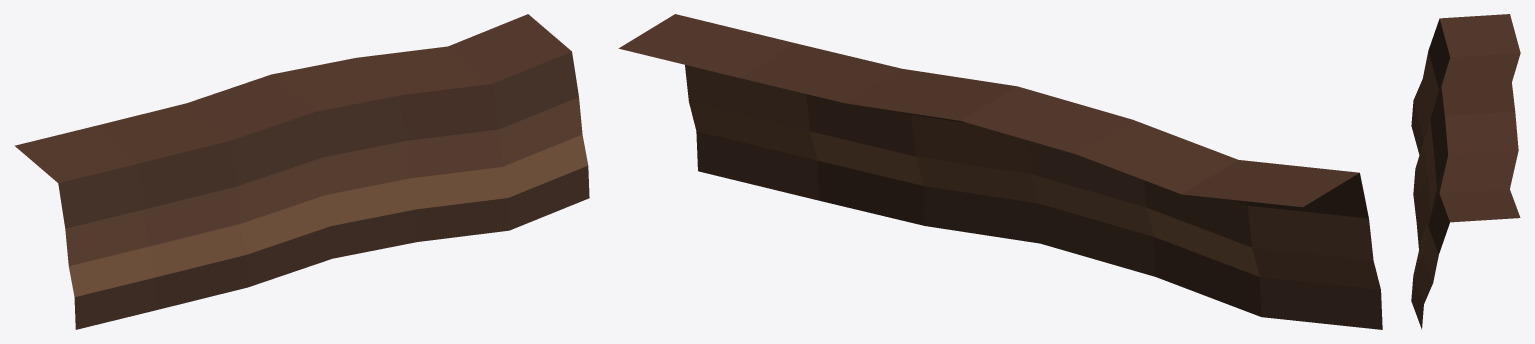
Rendered from earthen-bank.glb.
3 views of the same model, side by side, from view 1: azimuth 30°, elevation 25°; view 2: azimuth 150°, elevation 25°; view 3: azimuth 270°, elevation 25° (orthographic). The views are drawn at different scales.
Visible parts, largest first — view 1: Layered cut bank; view 2: Layered cut bank; view 3: Layered cut bank.
Part boxes in pixels (x1,y1,x2,y2): Layered cut bank: (14,14,589,329); Layered cut bank: (618,14,1382,329); Layered cut bank: (1411,14,1520,329).
Bounding box in the file's own units: 12 × 3.33 × 2.72.
